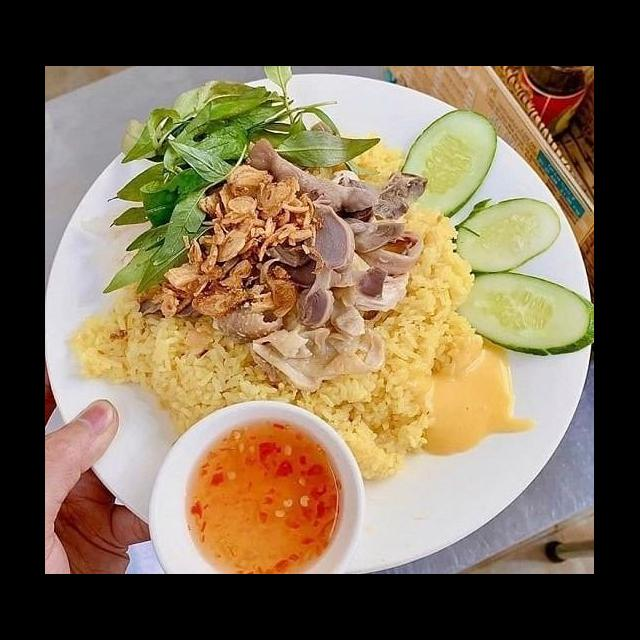com: (66, 289, 294, 434), (368, 201, 486, 381), (294, 373, 439, 484)
com ga: (48, 119, 594, 574)
rau ram: (116, 67, 384, 178), (97, 133, 235, 296)
thit ga: (239, 135, 432, 394)
